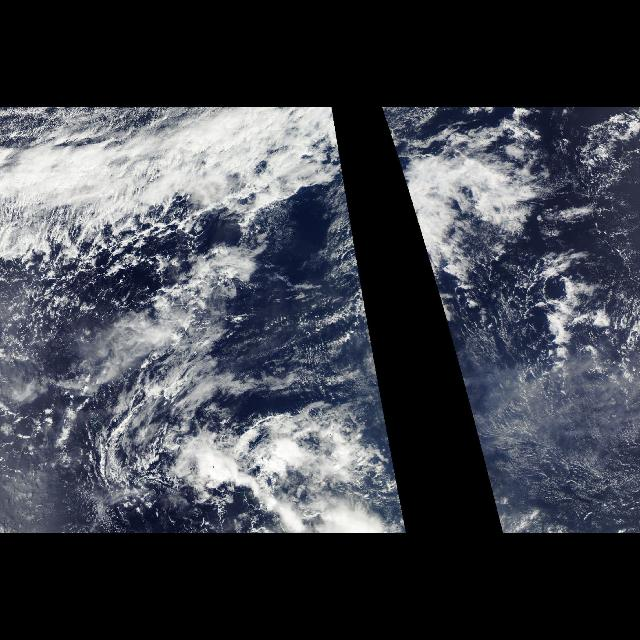Sugar: (477, 385, 639, 533)
